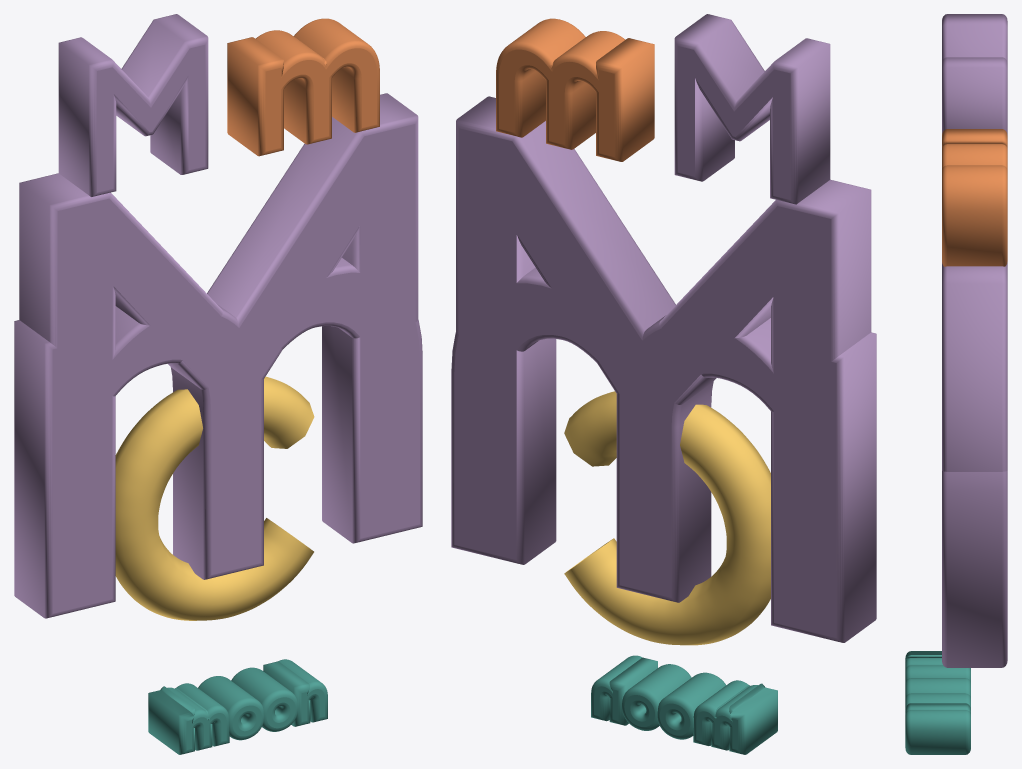
File: letter-m.glb
3 renders of one model, left to right at view 1: azimuth 30°, elevation 25°; view 2: azimuth 150°, elevation 25°; view 3: azimuth 270°, elevation 25°, orthographic. The views are drawn at different scales.
Visible parts, largest first — view 1: letter solid, letter solid.001, crescent moon, uppercase solid, lowercase solid, example word; view 2: letter solid, letter solid.001, crescent moon, uppercase solid, lowercase solid, example word; view 3: letter solid, letter solid.001, lowercase solid, uppercase solid, example word.
Boxes of the visible parts, x1,y1,x2,y2 form: letter solid: (19,93,418,608); letter solid.001: (14,258,422,618); crescent moon: (115,376,314,620); uppercase solid: (58,14,208,196); lowercase solid: (227,18,379,156); example word: (148,659,327,754); letter solid: (456,96,871,641); letter solid.001: (451,267,876,642); crescent moon: (564,391,770,645); uppercase solid: (674,14,830,204); lowercase solid: (496,18,654,161); example word: (591,655,777,754); letter solid: (942,262,1007,471); letter solid.001: (942,470,1007,667); lowercase solid: (942,129,1007,266); uppercase solid: (942,14,1007,135); example word: (905,651,970,754).
Bounding box in the file's own units: 1.11 × 1.94 × 0.28.
